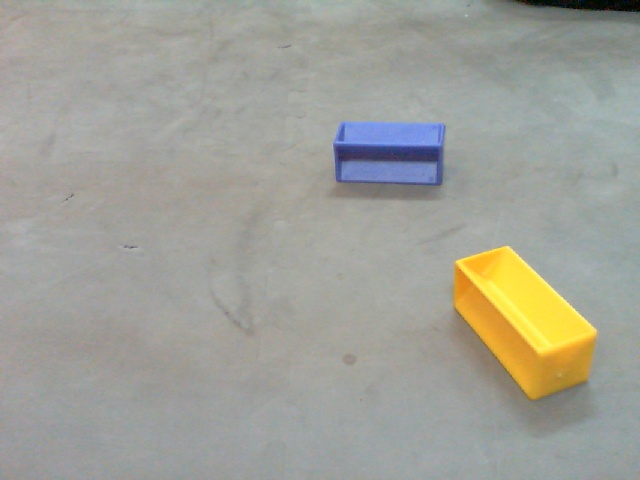BlueSample: (333, 119, 447, 187)
YellowSample: (449, 244, 598, 403)
